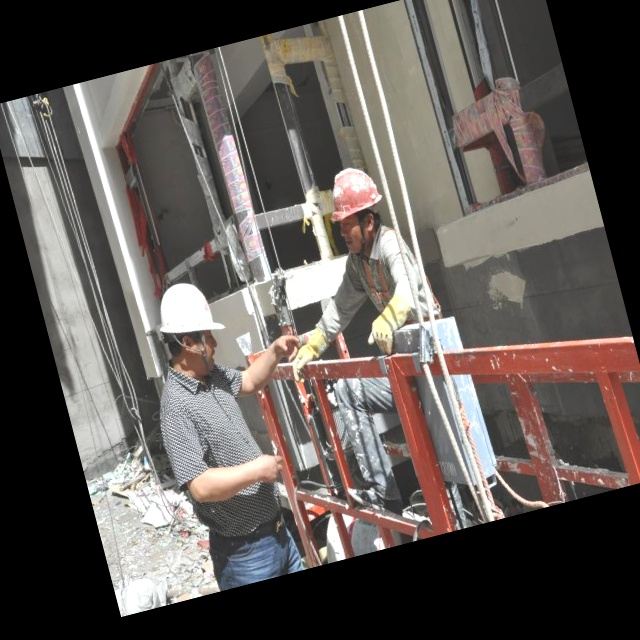Con_Casco: (153, 274, 233, 374), (320, 163, 394, 254)
Sin_Chaleco: (154, 355, 287, 541)
